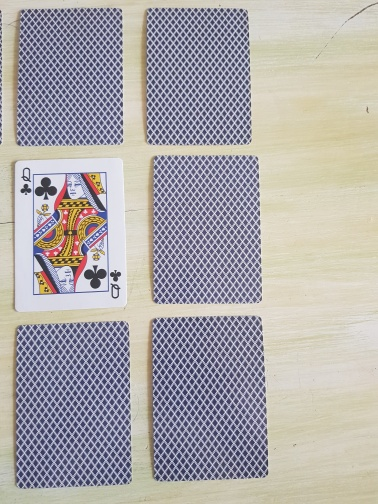queen: (12, 157, 129, 312)
